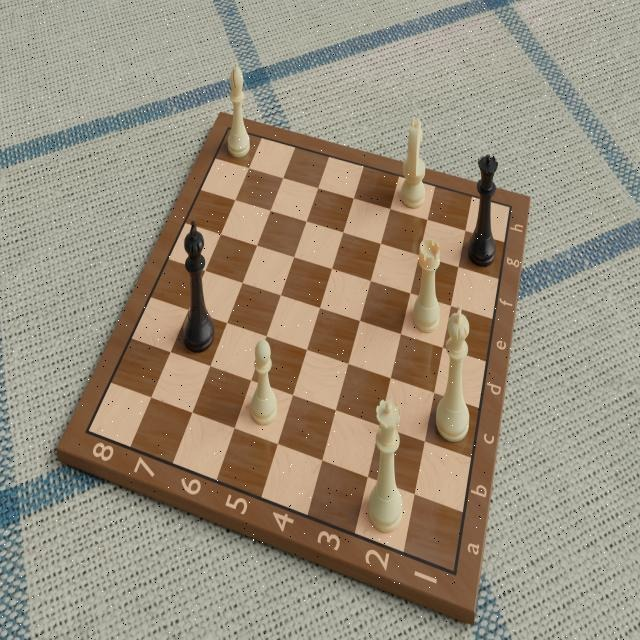black-king: (178, 217, 218, 353)
black-queen: (468, 152, 498, 268)
white-bishop: (225, 60, 252, 161)
white-king: (433, 300, 475, 449)
white-knight: (398, 116, 428, 214)
white-pawn: (250, 337, 278, 427)
white-queen: (366, 392, 406, 536)
white-rook: (410, 236, 441, 336)
